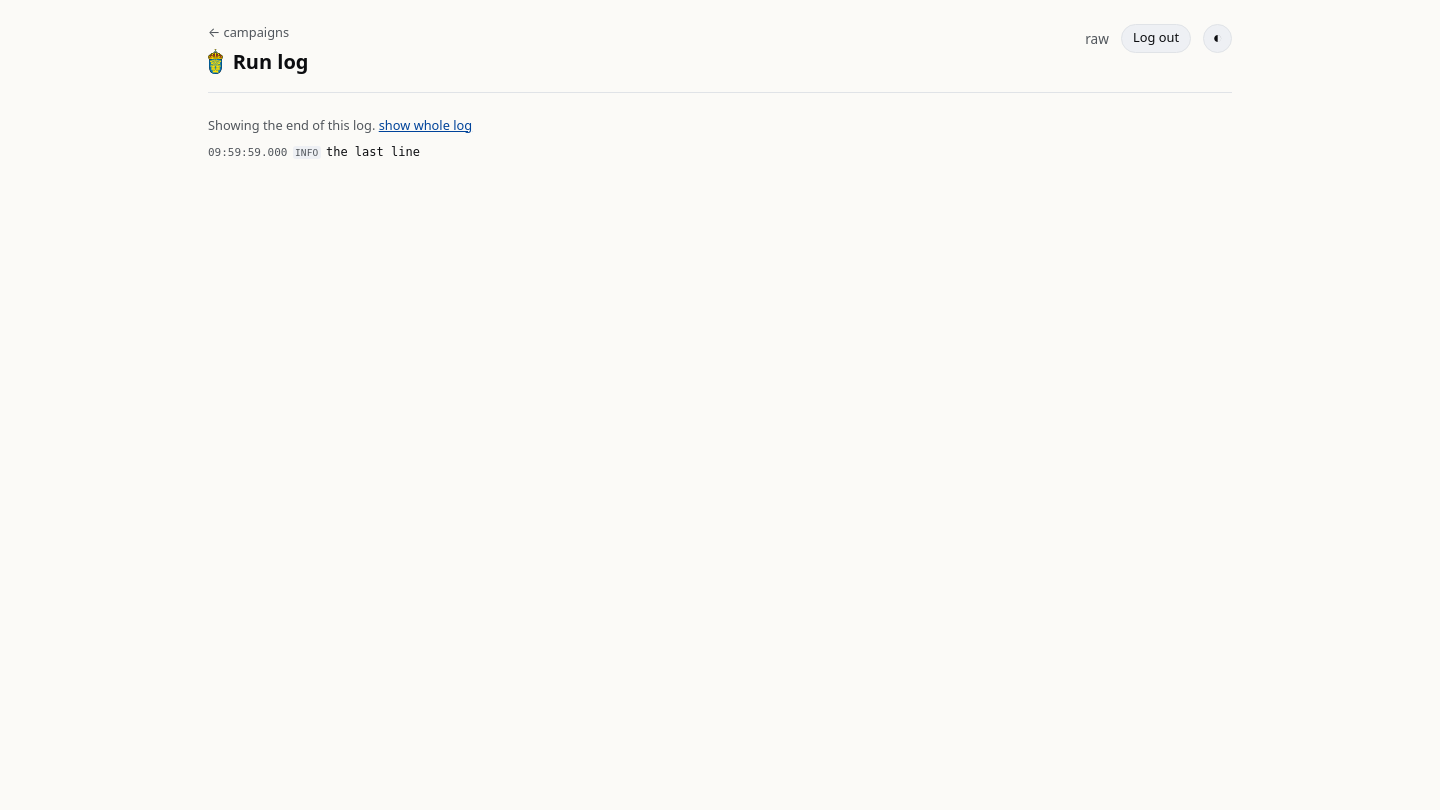
Test: /log with a very large log › the whole log is one click away
The width and height of the screenshot is (1440, 810).
Click the button "show whole log" at (425, 125), box [379,116,472,134]
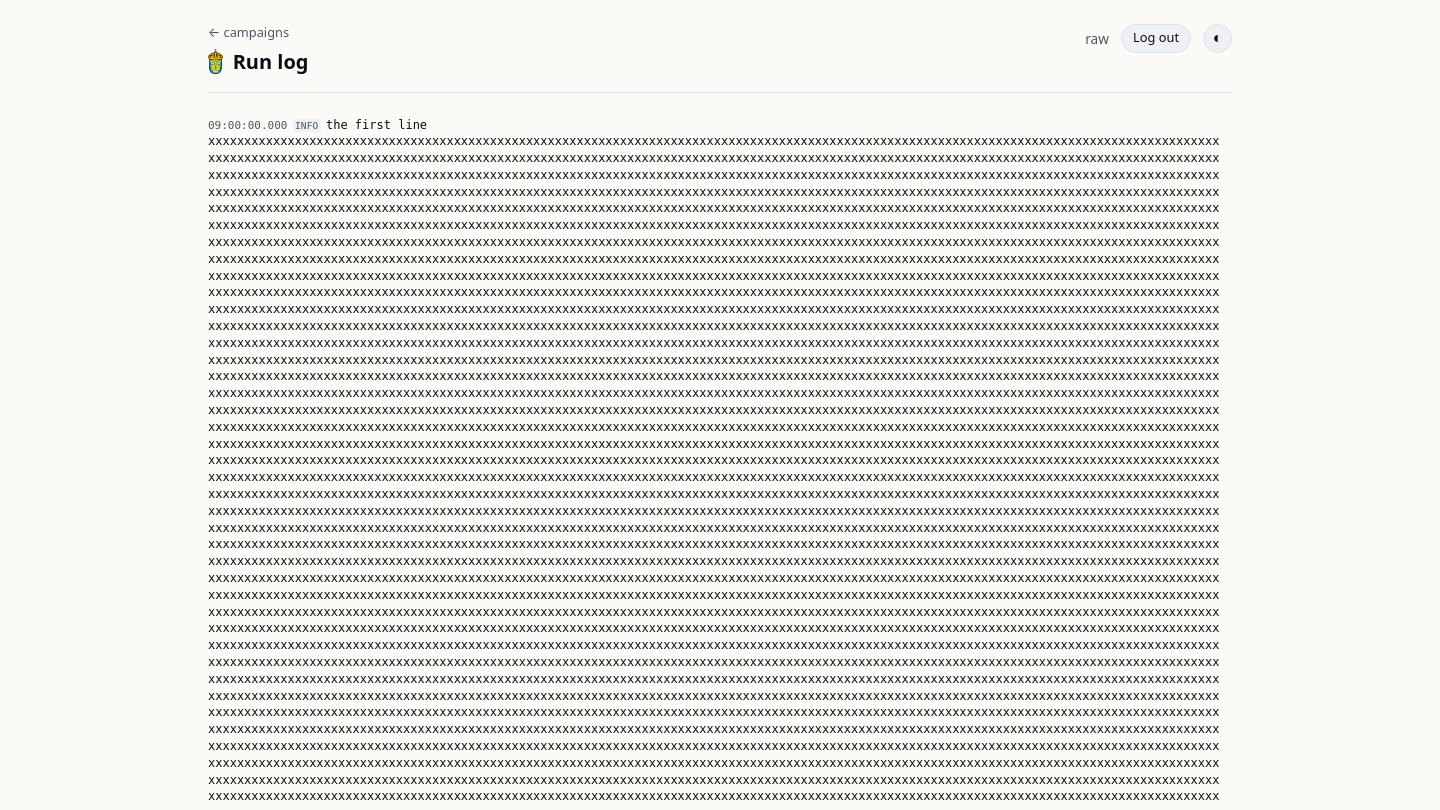
Result: the text "the first line" is shown at [326,118,427,132]
Result: the text "Showing the end of this log" is gone
